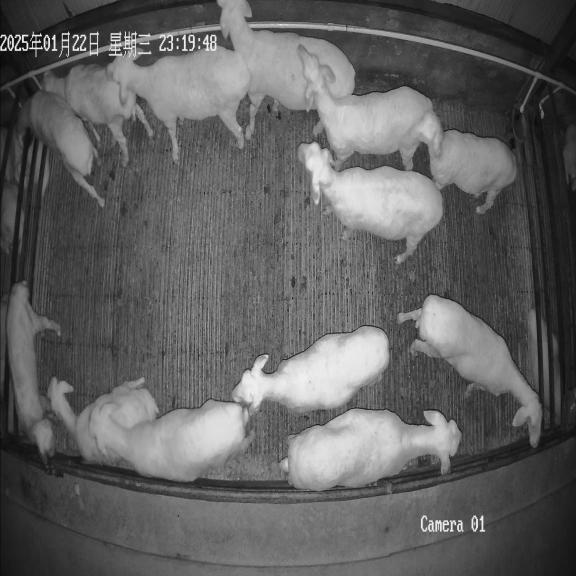drinking: (39, 64, 153, 166), (17, 90, 104, 207)
lying: (48, 377, 159, 463)
stand: (397, 295, 542, 447), (217, 0, 355, 139), (298, 142, 442, 263), (298, 46, 435, 170), (106, 46, 250, 160), (279, 408, 462, 491), (89, 399, 254, 482), (232, 326, 389, 413), (410, 110, 516, 214), (6, 281, 61, 462)
